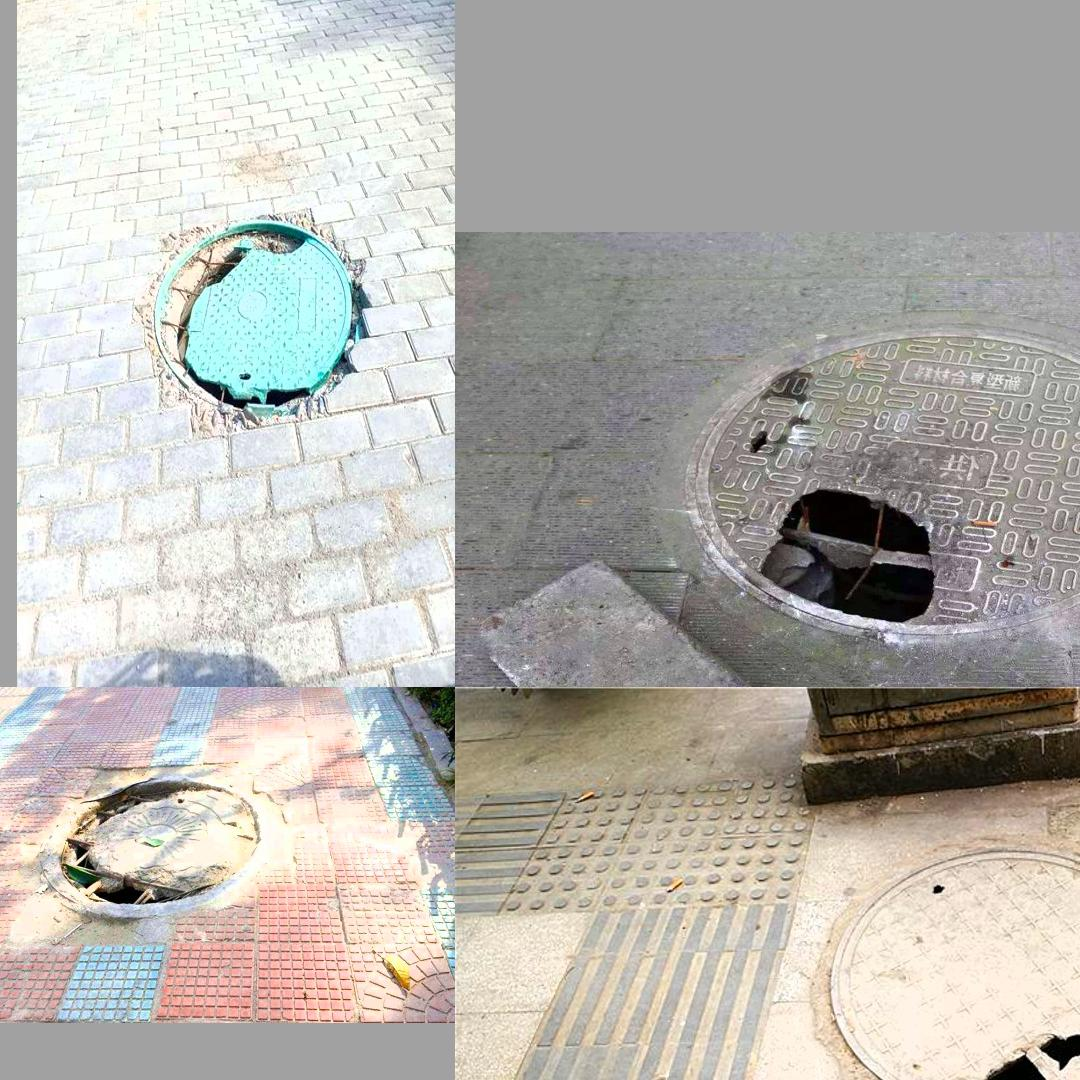broke: (695, 332, 1080, 633), (830, 844, 1080, 1080), (133, 215, 377, 425), (47, 777, 274, 908)
